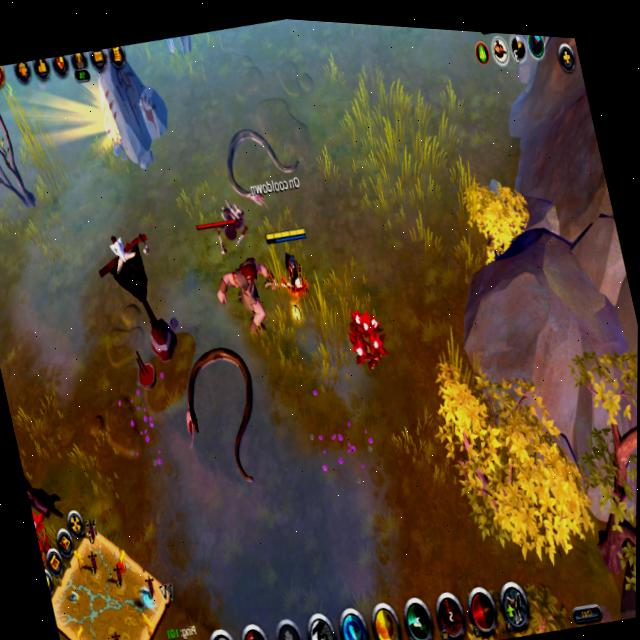hide: (332, 291, 401, 382), (28, 496, 63, 583), (159, 35, 183, 60)
ore: (188, 200, 298, 364)
red: (259, 217, 324, 317)
